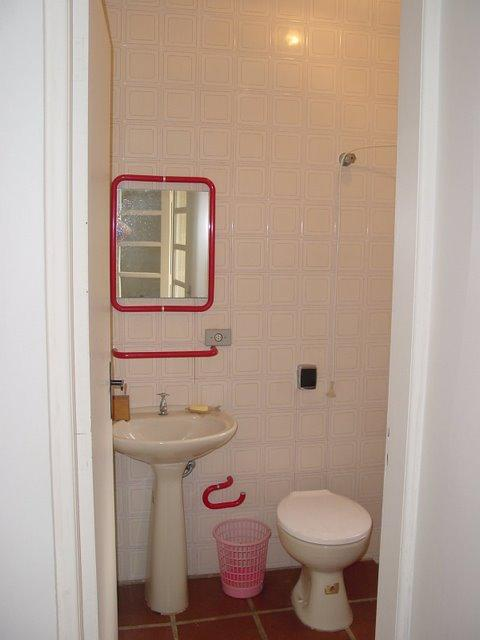Bote de Basura: (211, 510, 276, 600)
Lavamanos: (112, 387, 237, 615)
Sanitario: (267, 484, 376, 634)
